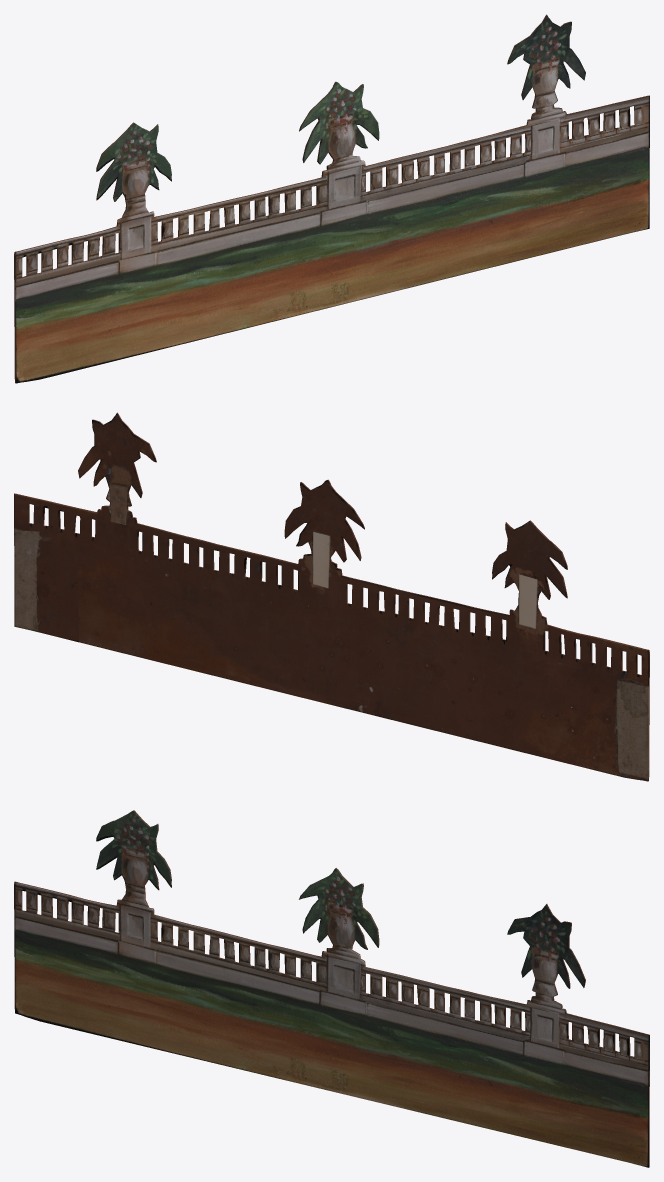
Rendered from X1_Teil1.fbx.
The picture shows the model from 3 angles, top to bottom: view 1: azimuth 30°, elevation 25°; view 2: azimuth 150°, elevation 25°; view 3: azimuth 330°, elevation 25°; orthographic projection.
Visible parts, largest first — view 1: X1_2.001; view 2: X1_2.001; view 3: X1_2.001.
Part boxes in pixels (x1,y1,x2,y2): X1_2.001: (14, 14, 649, 383); X1_2.001: (14, 412, 649, 781); X1_2.001: (14, 810, 649, 1167).
Bounding box in the file's own units: 100 × 36.32 × 0.1968.
